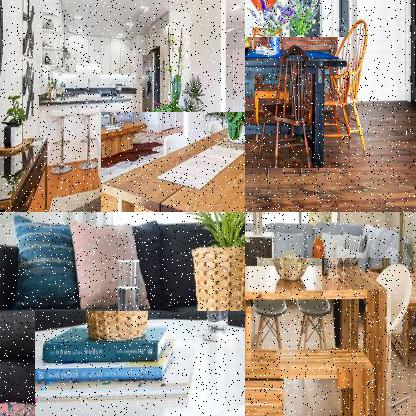table: (245, 258, 391, 415), (34, 311, 244, 415), (100, 112, 244, 211), (245, 37, 351, 170)
